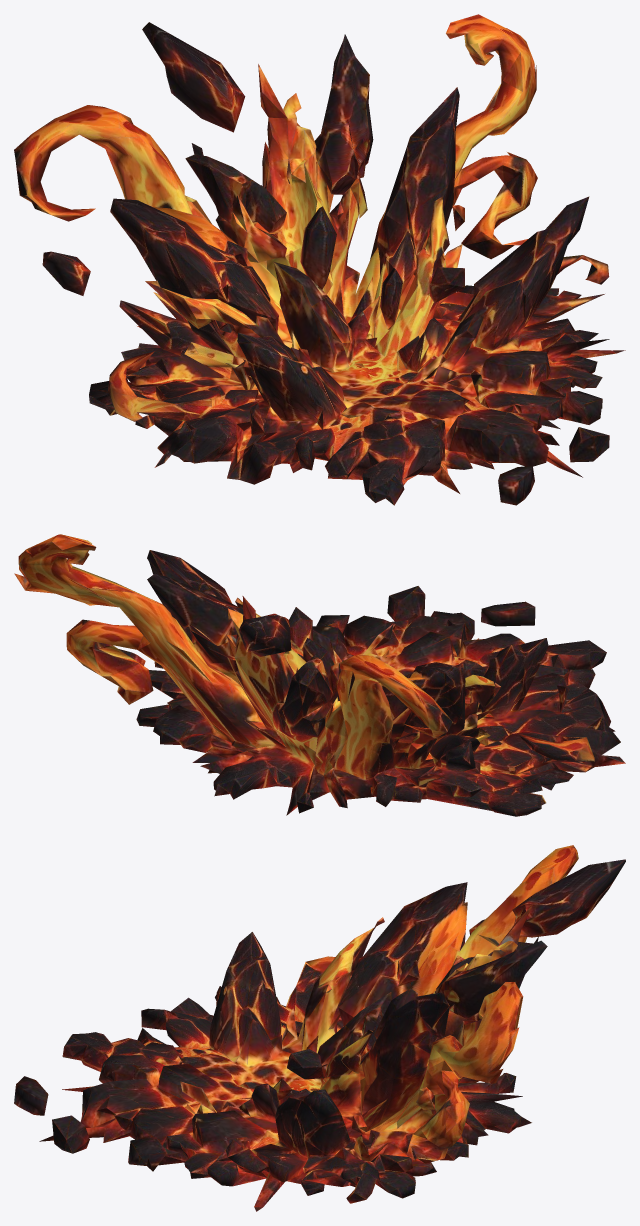
The model's file is trimaw-burst.glb.
The picture shows the model from 3 angles, top to bottom: view 1: azimuth 30°, elevation 25°; view 2: azimuth 150°, elevation 25°; view 3: azimuth 270°, elevation 25°; orthographic projection. The views are drawn at different scales.
Size of the model in its own units: 1.81 by 0.8309 by 2.
Materials: 1 (1 with a texture image).
